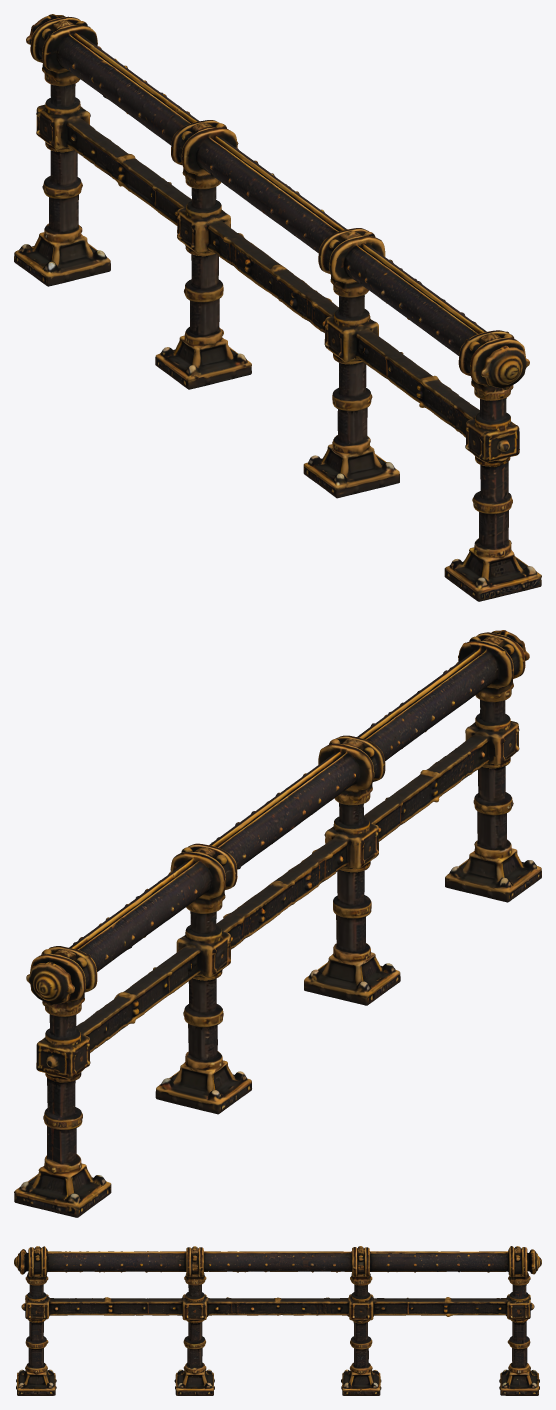
Rendered from raw_handrail.glb.
3 renders of one model, top to bottom at view 1: azimuth 30°, elevation 25°; view 2: azimuth 150°, elevation 25°; view 3: azimuth 270°, elevation 25°, orthographic. The views are drawn at different scales.
Visible parts, largest first — view 1: handrail; view 2: handrail; view 3: handrail.
Part boxes in pixels (x1,y1,x2,y2): handrail: [14, 14, 541, 601]; handrail: [14, 630, 541, 1217]; handrail: [14, 1246, 541, 1395].
Size of the model in its own units: 0.0826 by 0.2904 by 1.
Materials: 1 (1 with a texture image).
